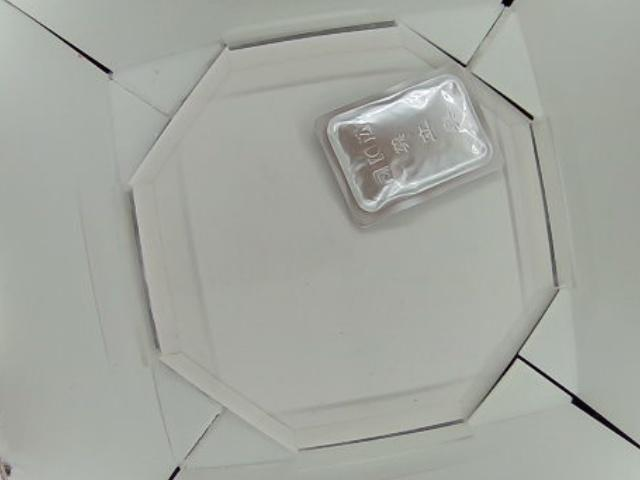Medicine: (309, 62, 504, 231)
